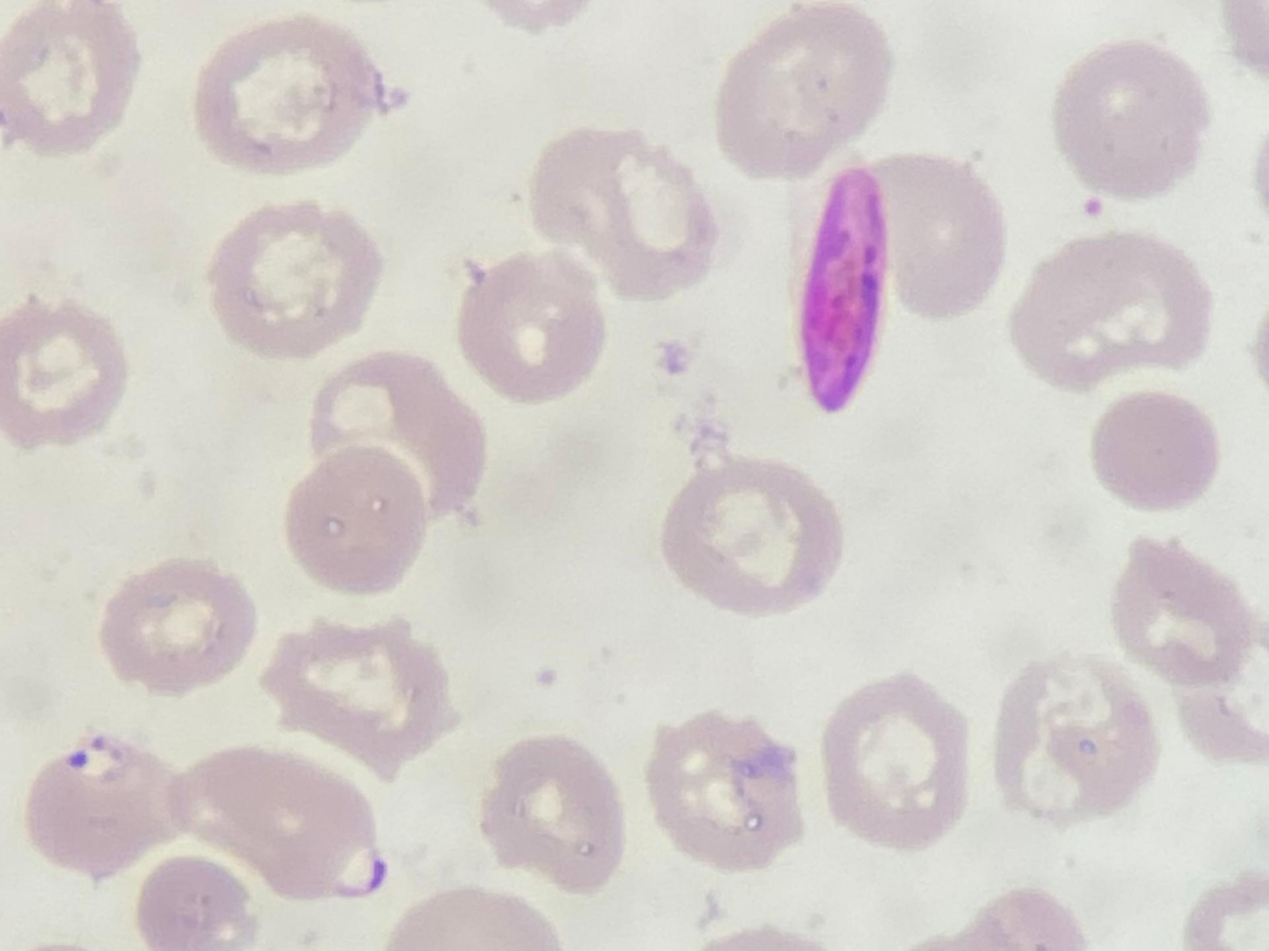Infected: (170, 746, 383, 903), (24, 737, 176, 884), (802, 164, 892, 409)
Uninfected: (718, 5, 903, 183), (262, 617, 455, 780), (1011, 231, 1209, 388), (530, 130, 716, 295), (309, 351, 486, 522), (195, 15, 384, 174), (661, 459, 839, 615), (206, 201, 379, 360), (994, 655, 1154, 825), (819, 675, 973, 849), (645, 709, 806, 872), (1053, 40, 1211, 195), (1110, 534, 1257, 694), (862, 157, 1007, 317), (479, 734, 625, 891), (284, 446, 435, 596), (96, 560, 257, 697), (458, 252, 607, 400), (1, 1, 137, 155), (0, 299, 129, 450), (1089, 389, 1219, 510)
